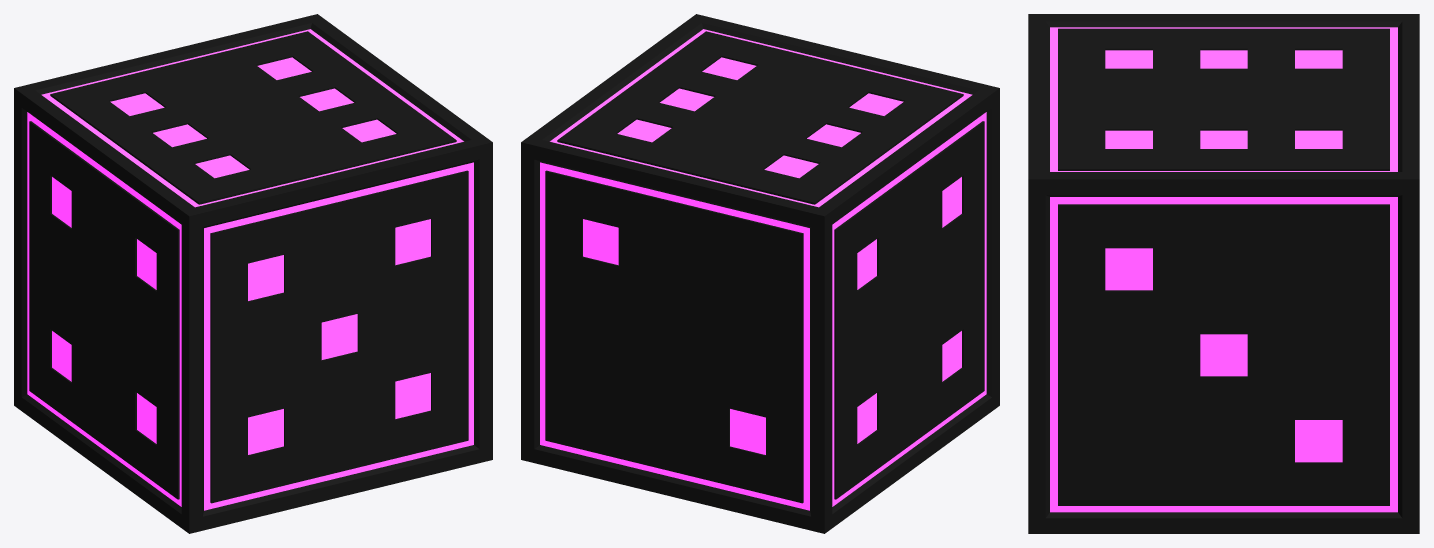
Rendered from Dice.fbx.
3 renders of one model, left to right at view 1: azimuth 30°, elevation 25°; view 2: azimuth 150°, elevation 25°; view 3: azimuth 270°, elevation 25°, orthographic. The views are drawn at different scales.
Visible parts, largest first — view 1: Cube; view 2: Cube; view 3: Cube.
Boxes of the visible parts, box(x1,y1,x2,y2) form: Cube: box(14, 14, 492, 533); Cube: box(521, 14, 999, 533); Cube: box(1028, 14, 1419, 533).
Size of the model in its own units: 205 by 205 by 205.
